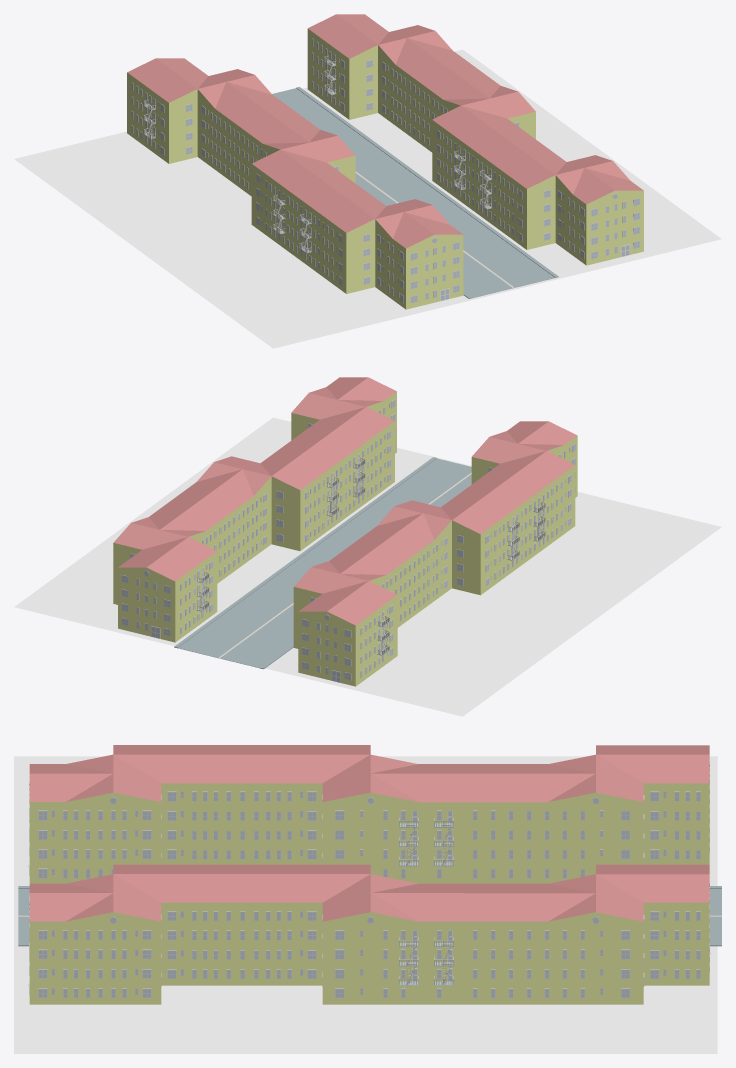
File: BROAD_FORWARD 1.fbx
3 views of the same model, one above another, from view 1: azimuth 30°, elevation 25°; view 2: azimuth 150°, elevation 25°; view 3: azimuth 270°, elevation 25° (orthographic). The views are drawn at different scales.
Parts seen in each view (by area): view 1: Building_B, ModularTrackStraight; view 2: Building_B, ModularTrackStraight; view 3: Building_B, ModularTrackStraight.
Part boxes in pixels (box(x1,y1,x2,y2)): Building_B: box(14, 14, 721, 348); ModularTrackStraight: box(272, 87, 558, 298); Building_B: box(14, 377, 721, 716); ModularTrackStraight: box(174, 457, 471, 669); Building_B: box(14, 745, 717, 1053); ModularTrackStraight: box(18, 886, 721, 946).
Size of the model in its own units: 10000 by 1471 by 10060.
